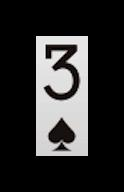3S: (40, 40, 83, 154)
